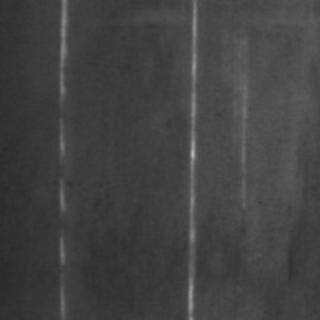scratches: (179, 1, 201, 316), (51, 1, 70, 316)
